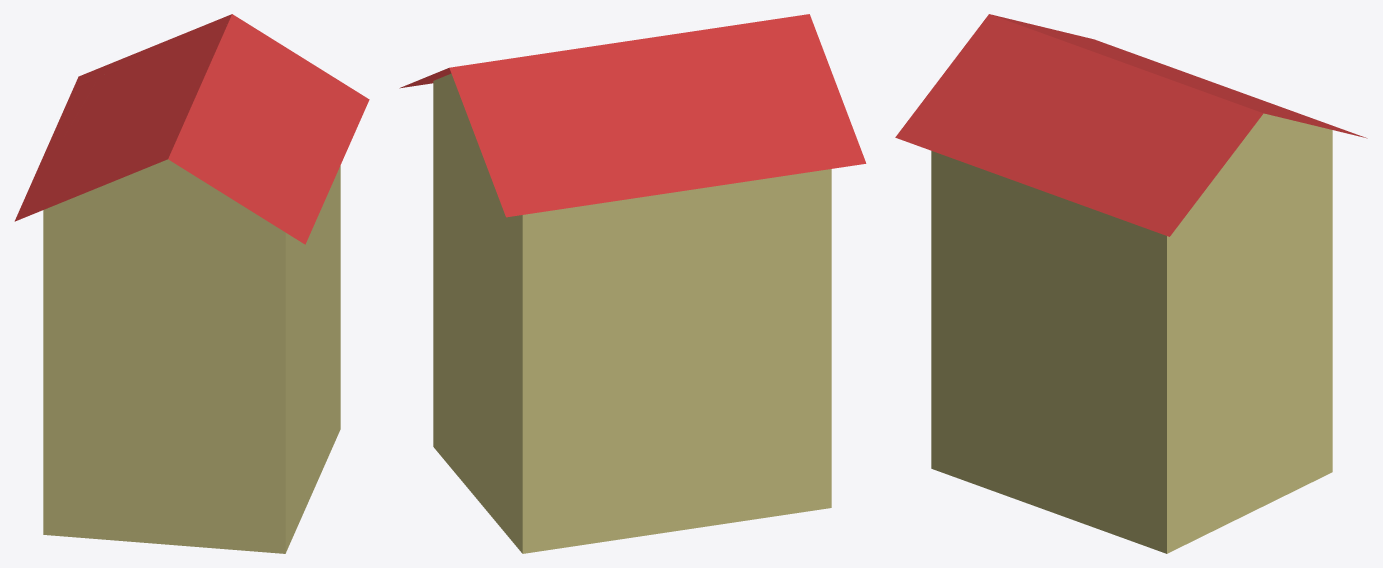
The picture shows the model from 3 angles, left to right: view 1: azimuth 30°, elevation 25°; view 2: azimuth 150°, elevation 25°; view 3: azimuth 270°, elevation 25°; orthographic projection. The views are drawn at different scales.
Parts seen in each view (by area): view 1: group_5, group_3, group_4; view 2: group_5, group_3, group_4; view 3: group_5, group_3, group_4.
Part boxes in pixels (x1=…): group_5: x1=43, y1=159, x2=340, y2=553; group_3: x1=14, y1=14, x2=369, y2=244; group_4: x1=15, y1=14, x2=231, y2=220; group_5: x1=433, y1=73, x2=831, y2=553; group_3: x1=449, y1=14, x2=866, y2=217; group_4: x1=399, y1=64, x2=865, y2=216; group_5: x1=931, y1=113, x2=1332, y2=553; group_3: x1=895, y1=14, x2=1329, y2=236; group_4: x1=989, y1=14, x2=1367, y2=138.
Bounding box in the file's own units: 13.63 × 13.81 × 13.17.
